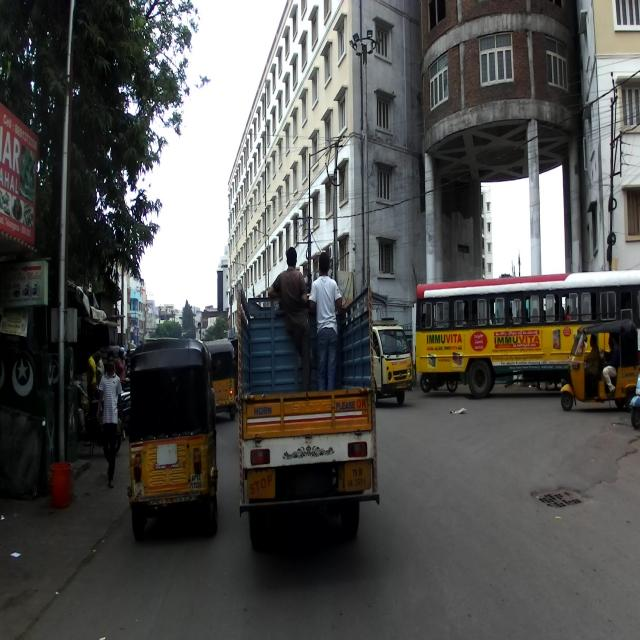autorickshaw: (126, 337, 219, 540), (558, 316, 638, 410)
bus: (411, 267, 639, 397)
scooter: (70, 381, 126, 458)
truck: (237, 282, 381, 548), (372, 318, 412, 406)
